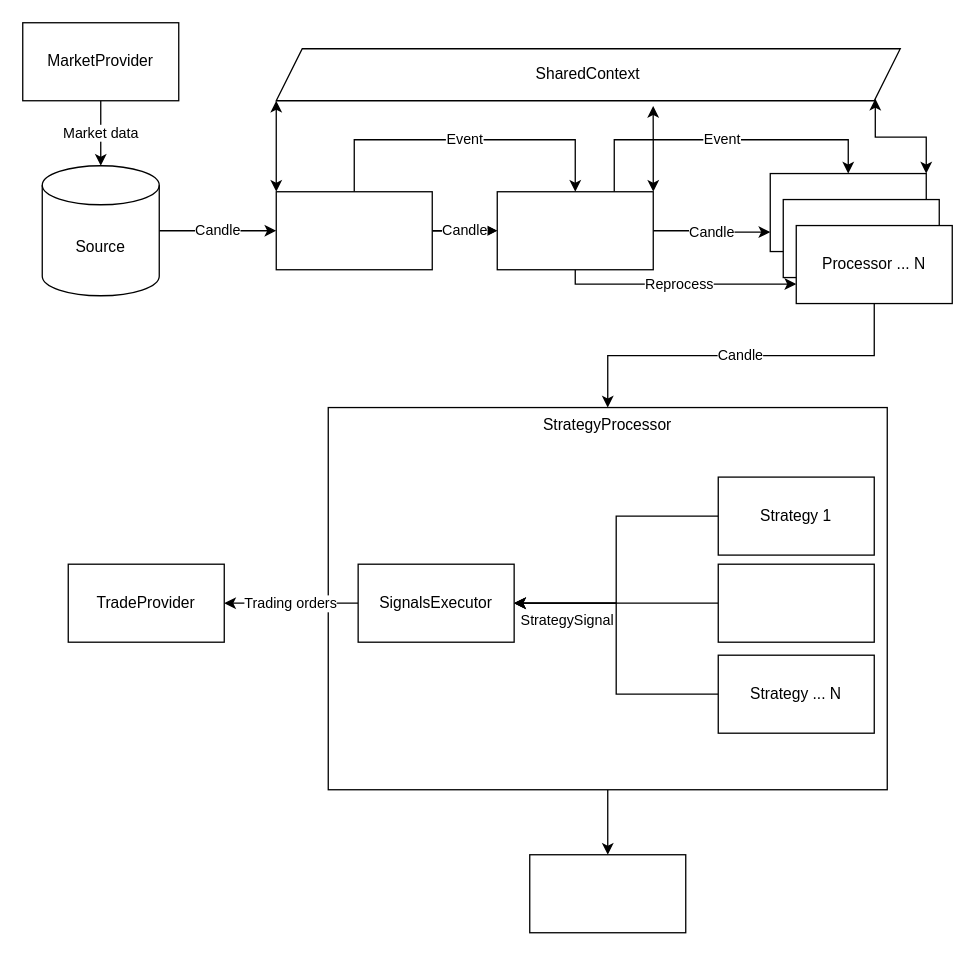
Image size: 975x955. Some labels were removed from this diagram. The shapes that lost their labels are listed below. From the top down, each one's centre as x and y in pixels, then its label:
point (353, 230): Processor A
point (574, 230): Processor B
point (795, 602): Strategy 2
point (607, 893): Terminator
